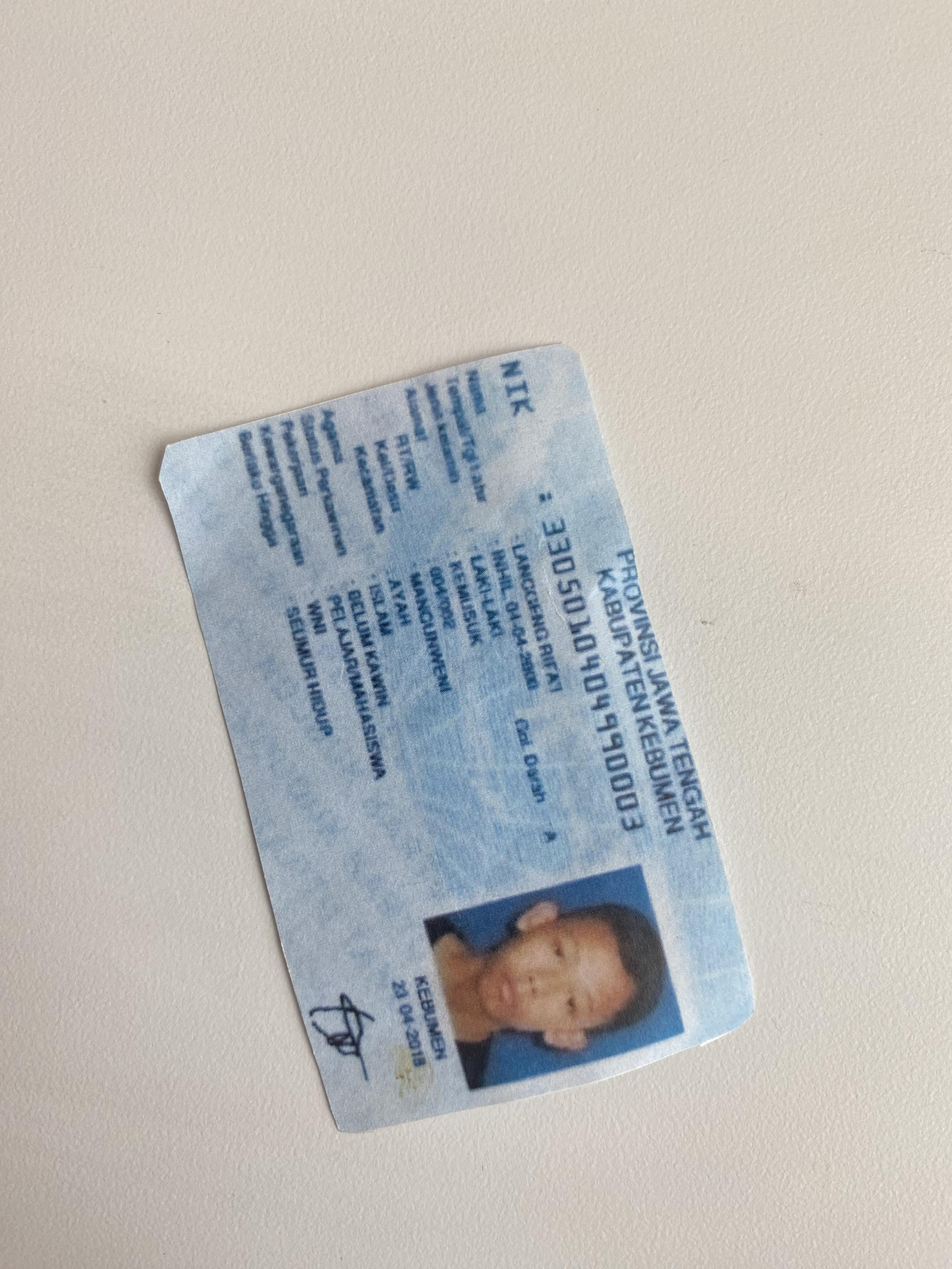ktp: (143, 331, 762, 1139)
